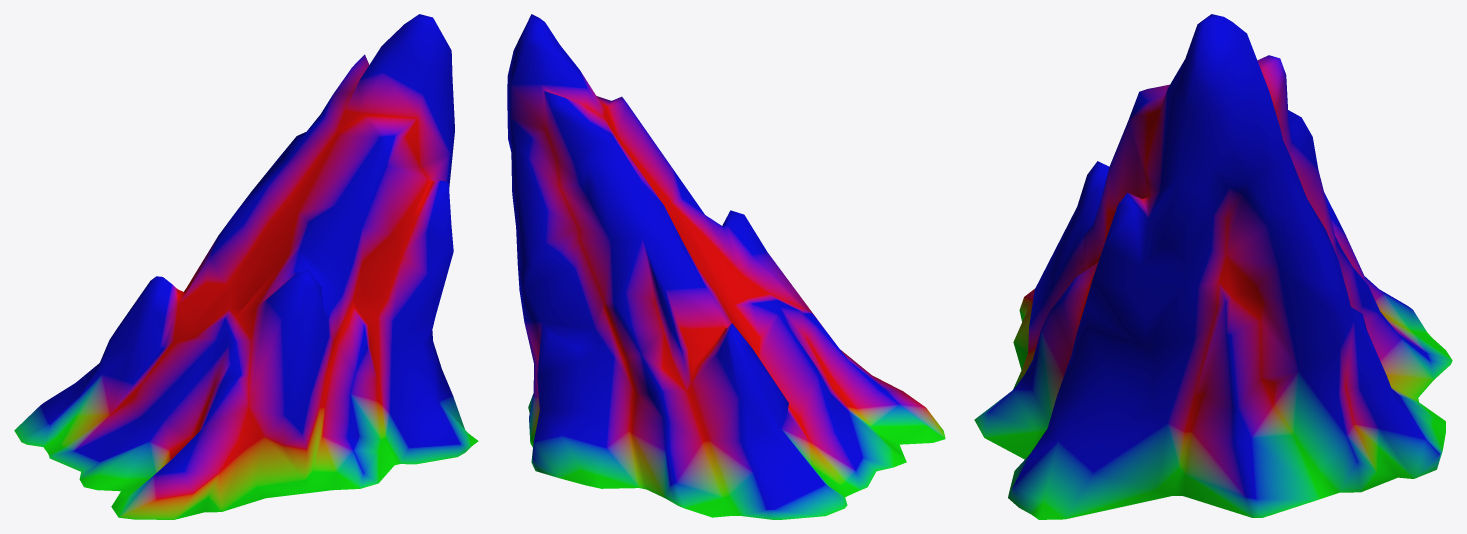
File: M_Mountain_B.fbx
3 renders of one model, left to right at view 1: azimuth 30°, elevation 25°; view 2: azimuth 150°, elevation 25°; view 3: azimuth 270°, elevation 25°, orthographic. The views are drawn at different scales.
Parts seen in each view (by area): view 1: Mountain_B_A, Mountain_B_C, Mountain_B_B, Mountain_B_D; view 2: Mountain_B_B, Mountain_B_D, Mountain_B_A, Mountain_B_C; view 3: Mountain_B_B, Mountain_B_A, Mountain_B_C, Mountain_B_D.
Part boxes in pixels (x1,y1,x2,y2): Mountain_B_A: (47,274,478,519); Mountain_B_C: (227,17,454,340); Mountain_B_B: (14,237,226,452); Mountain_B_D: (210,14,432,283); Mountain_B_B: (519,269,853,519); Mountain_B_D: (507,14,716,328); Mountain_B_A: (717,252,945,493); Mountain_B_C: (534,15,766,304); Mountain_B_B: (1183,192,1452,517); Mountain_B_A: (974,207,1225,519); Mountain_B_C: (1076,15,1234,346); Mountain_B_D: (1205,14,1347,314).
Bounding box in the file's own units: 100017 × 94403 × 80185.
